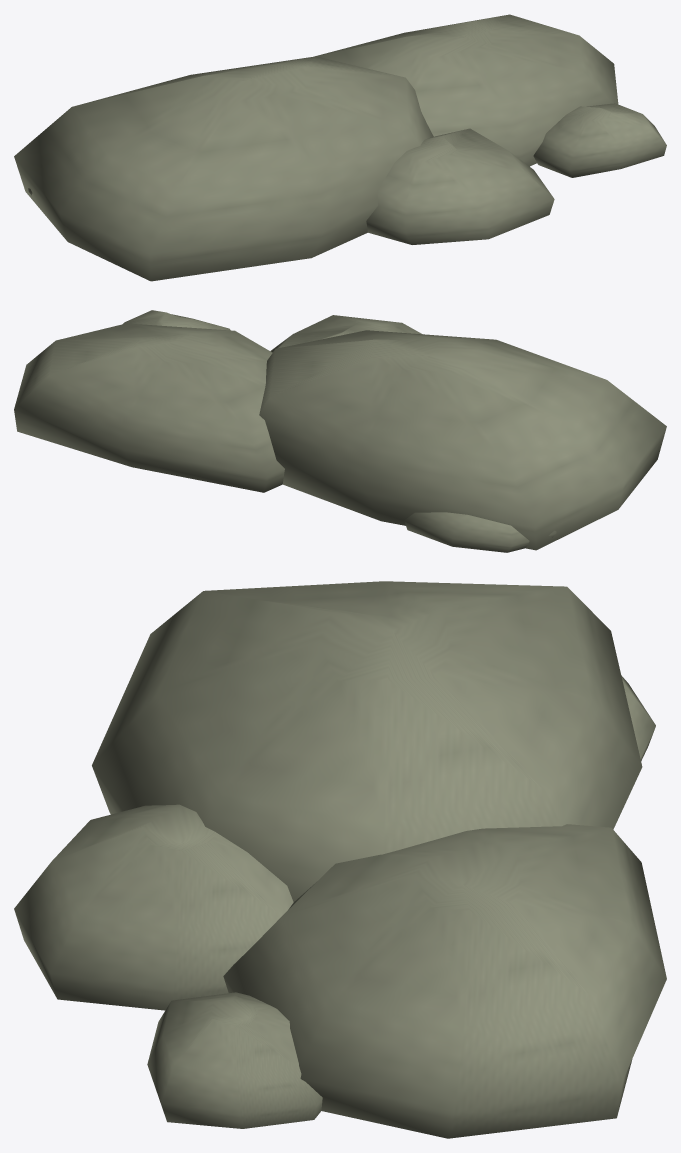
The model's file is shore-rock-lod1.glb.
3 renders of one model, top to bottom at view 1: azimuth 30°, elevation 25°; view 2: azimuth 150°, elevation 25°; view 3: azimuth 270°, elevation 25°, orthographic. The views are drawn at different scales.
Size of the model in its own units: 0.3941 by 0.0745 by 0.2254.
Materials: 1 (1 with a texture image).
